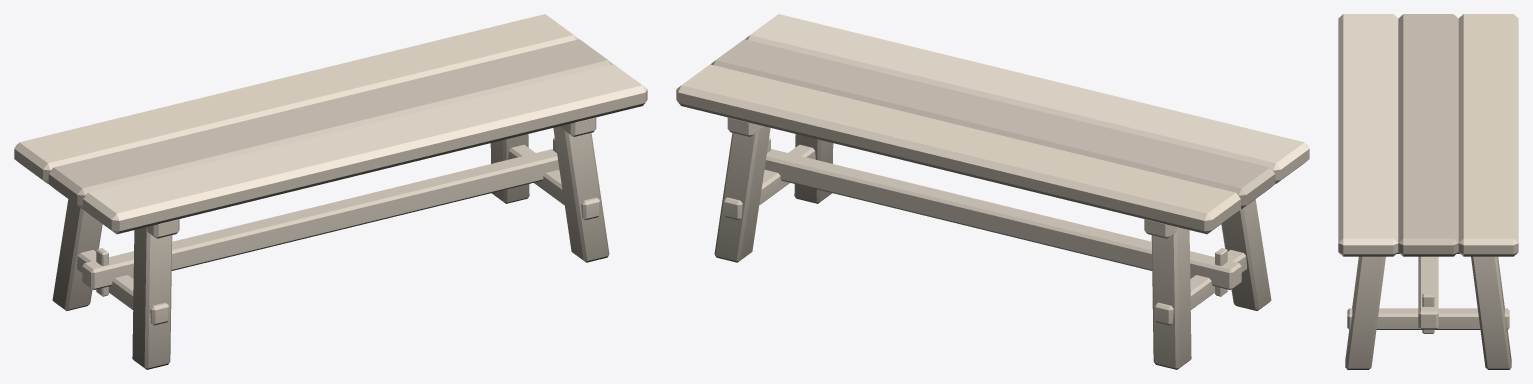
File: SM_VKI_Prop_Table_Trestle_300.fbx
3 views of the same model, side by side, from view 1: azimuth 30°, elevation 25°; view 2: azimuth 150°, elevation 25°; view 3: azimuth 270°, elevation 25° (orthographic). The views are drawn at different scales.
Visible parts, largest first — view 1: SM_VKI_Prop_Table_Trestle_300.001; view 2: SM_VKI_Prop_Table_Trestle_300.001; view 3: SM_VKI_Prop_Table_Trestle_300.001.
Part boxes in pixels (bbox=[...]): SM_VKI_Prop_Table_Trestle_300.001: bbox=[14, 14, 647, 369]; SM_VKI_Prop_Table_Trestle_300.001: bbox=[676, 14, 1309, 369]; SM_VKI_Prop_Table_Trestle_300.001: bbox=[1338, 14, 1518, 369].
Bounding box in the file's own units: 2.7 × 0.8 × 0.9.
